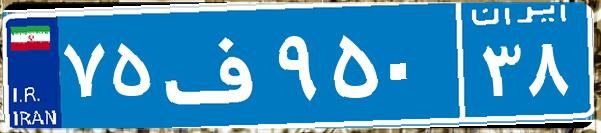0: (385, 28, 445, 110)
3: (475, 38, 525, 113)
5: (330, 28, 385, 110), (110, 28, 158, 105)
7: (57, 26, 110, 107)
8: (525, 38, 570, 115)
9: (273, 28, 330, 110)
ف: (158, 15, 273, 115)
